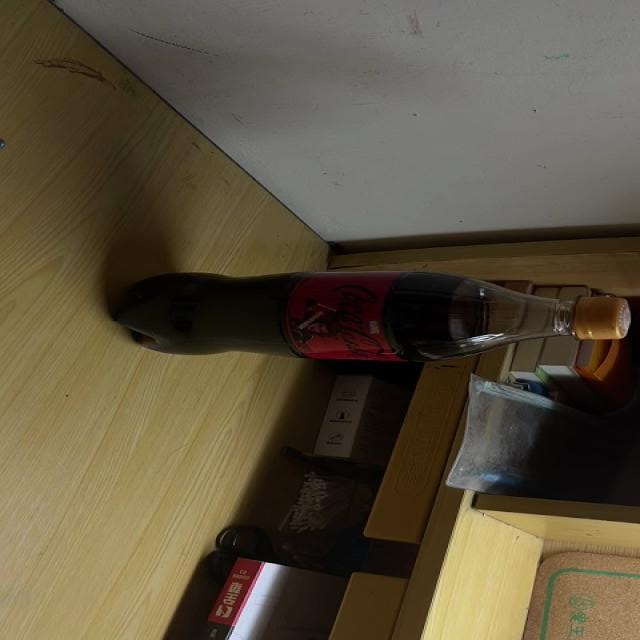Coca-Cola: (111, 273, 631, 360)
